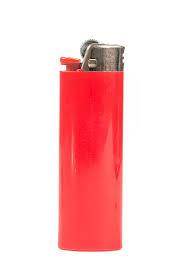lighter: (57, 39, 122, 253)
